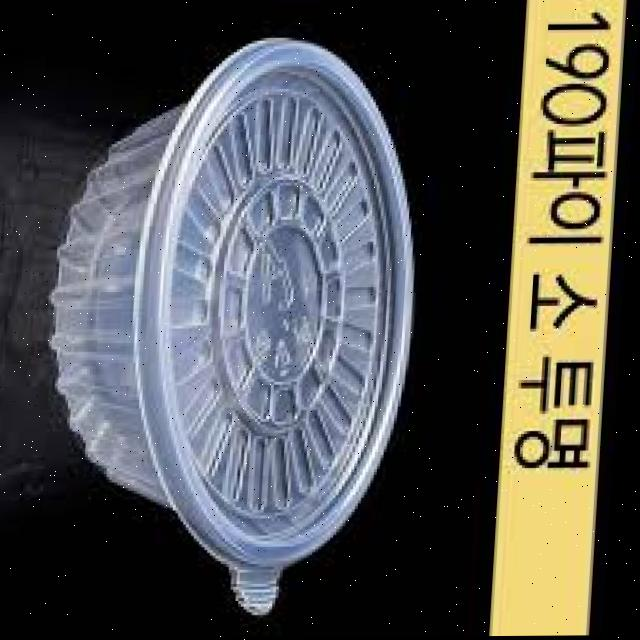disposable: (19, 33, 445, 640)
